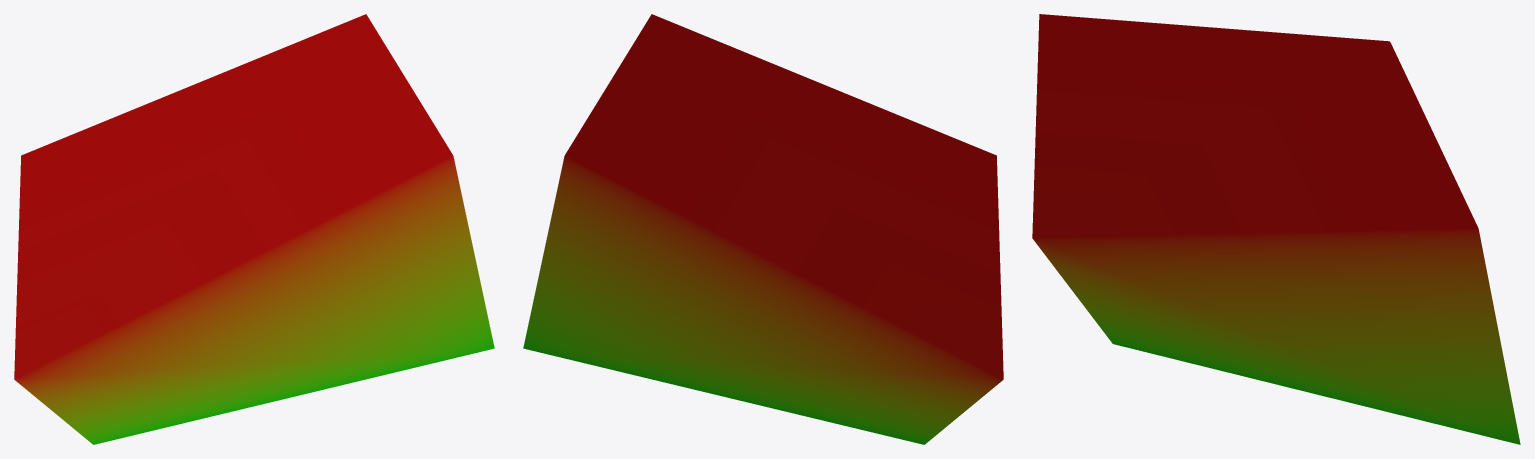
File: Xeric Grass_LOD7_Var2_xjfgdhaqx.fbx
3 views of the same model, side by side, from view 1: azimuth 30°, elevation 25°; view 2: azimuth 150°, elevation 25°; view 3: azimuth 330°, elevation 25° (orthographic).
Parts seen in each view (by area): view 1: _h4i5_Var2_LOD7; view 2: _h4i5_Var2_LOD7; view 3: _h4i5_Var2_LOD7.
Boxes of the visible parts, <box> form: _h4i5_Var2_LOD7: <box>14,14,494,444</box>; _h4i5_Var2_LOD7: <box>523,14,1003,444</box>; _h4i5_Var2_LOD7: <box>1032,14,1520,444</box>.
Size of the model in its own units: 158 by 115 by 1.37e-05.
